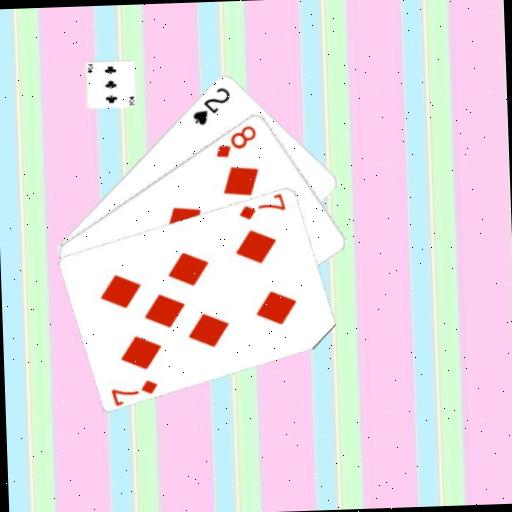2S: (188, 83, 232, 127)
7D: (235, 192, 288, 221), (107, 376, 159, 405)
8D: (211, 121, 258, 160)
